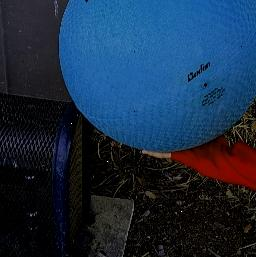algae: (57, 0, 256, 154)
